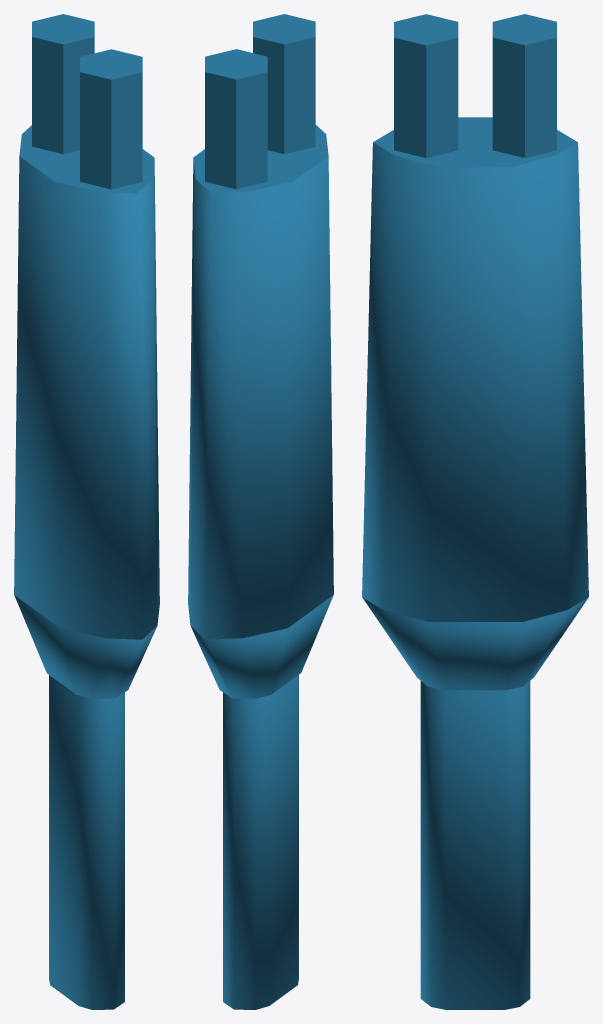
Rendered from DisposableStunProd.fbx.
The picture shows the model from 3 angles, left to right: view 1: azimuth 30°, elevation 25°; view 2: azimuth 150°, elevation 25°; view 3: azimuth 270°, elevation 25°; orthographic projection. The views are drawn at different scales.
Parts seen in each view (by area): view 1: Cylinder.001; view 2: Cylinder.001; view 3: Cylinder.001.
Part boxes in pixels (box(x1,y1,x2,y2)): Cylinder.001: box(14, 14, 159, 1009); Cylinder.001: box(188, 14, 333, 1009); Cylinder.001: box(362, 14, 588, 1009).
Bounding box in the file's own units: 0.2938 × 0.0325 × 0.0624.
